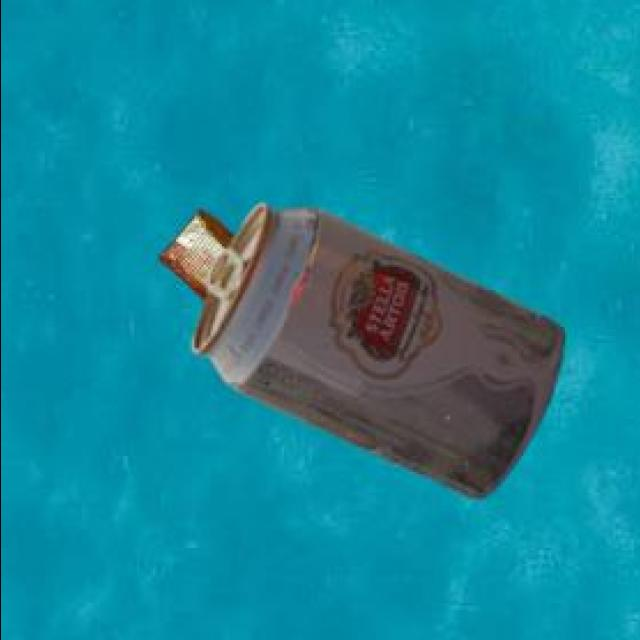logam: (188, 206, 561, 501), (155, 213, 231, 303)
